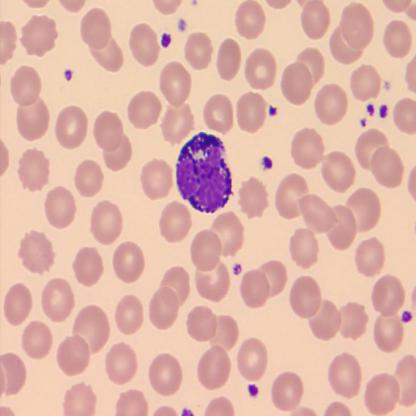Basophil: (173, 129, 235, 215)
